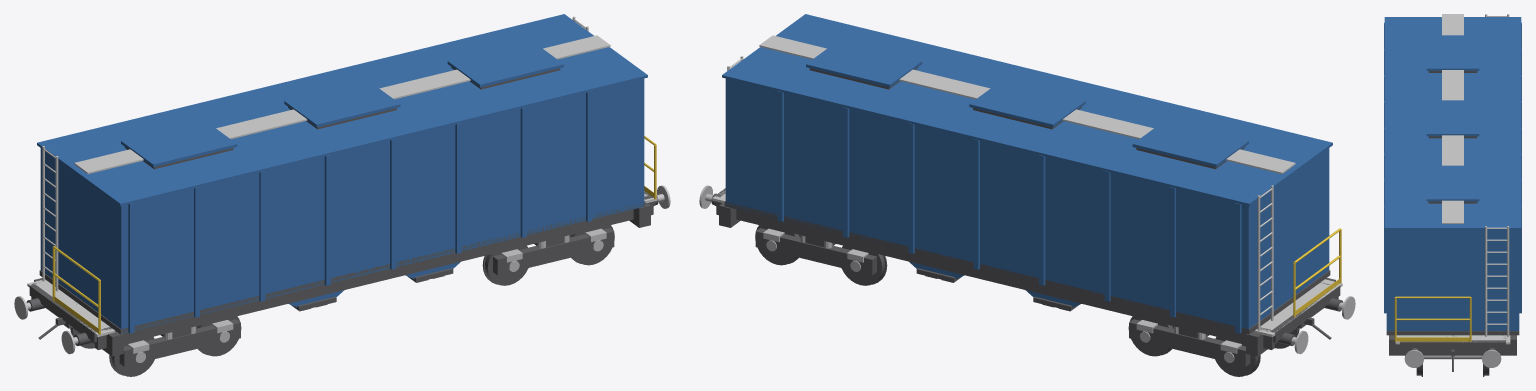
File: SM_HopperWagon.fbx
3 views of the same model, side by side, from view 1: azimuth 30°, elevation 25°; view 2: azimuth 150°, elevation 25°; view 3: azimuth 270°, elevation 25° (orthographic). The views are drawn at different scales.
Parts seen in each view (by area): view 1: HW_Body, HW_HatchLid_1, HW_HatchLid_3, HW_HatchLid_2, HW_Bogie1_Frame, HW_Bogie2_Frame, HW_Bogie2_WS1, HW_Bogie1_WS1, HW_Bogie1_WS2, HW_Bogie2_WS2; view 2: HW_Body, HW_HatchLid_1, HW_HatchLid_3, HW_HatchLid_2, HW_Bogie1_Frame, HW_Bogie2_Frame, HW_Bogie2_WS1, HW_Bogie1_WS1, HW_Bogie1_WS2, HW_Bogie2_WS2; view 3: HW_Body, HW_HatchLid_2, HW_HatchLid_3, HW_HatchLid_1, HW_Bogie1_WS2.
Boxes of the visible parts, x1=… form: HW_Body: x1=14, y1=14, x2=670, y2=356; HW_HatchLid_1: x1=121, y1=120, x2=237, y2=167; HW_HatchLid_3: x1=447, y1=40, x2=563, y2=87; HW_HatchLid_2: x1=284, y1=80, x2=400, y2=127; HW_Bogie1_Frame: x1=493, y1=228, x2=614, y2=275; HW_Bogie2_Frame: x1=119, y1=319, x2=240, y2=366; HW_Bogie2_WS1: x1=70, y1=328, x2=154, y2=376; HW_Bogie1_WS1: x1=482, y1=245, x2=528, y2=285; HW_Bogie1_WS2: x1=569, y1=225, x2=614, y2=265; HW_Bogie2_WS2: x1=196, y1=316, x2=241, y2=356; HW_Body: x1=699, y1=14, x2=1355, y2=356; HW_HatchLid_1: x1=1132, y1=120, x2=1248, y2=167; HW_HatchLid_3: x1=806, y1=40, x2=922, y2=87; HW_HatchLid_2: x1=969, y1=80, x2=1085, y2=127; HW_Bogie1_Frame: x1=755, y1=228, x2=876, y2=275; HW_Bogie2_Frame: x1=1129, y1=319, x2=1250, y2=366; HW_Bogie2_WS1: x1=1215, y1=328, x2=1299, y2=376; HW_Bogie1_WS1: x1=841, y1=245, x2=887, y2=285; HW_Bogie1_WS2: x1=755, y1=225, x2=800, y2=265; HW_Bogie2_WS2: x1=1128, y1=316, x2=1173, y2=356; HW_Body: x1=1384, y1=14, x2=1521, y2=371; HW_HatchLid_2: x1=1426, y1=100, x2=1479, y2=136; HW_HatchLid_3: x1=1426, y1=165, x2=1479, y2=201; HW_HatchLid_1: x1=1426, y1=35, x2=1479, y2=70; HW_Bogie1_WS2: x1=1416, y1=355, x2=1489, y2=376.
Bounding box in the file's own units: 1301 × 416 × 312.
